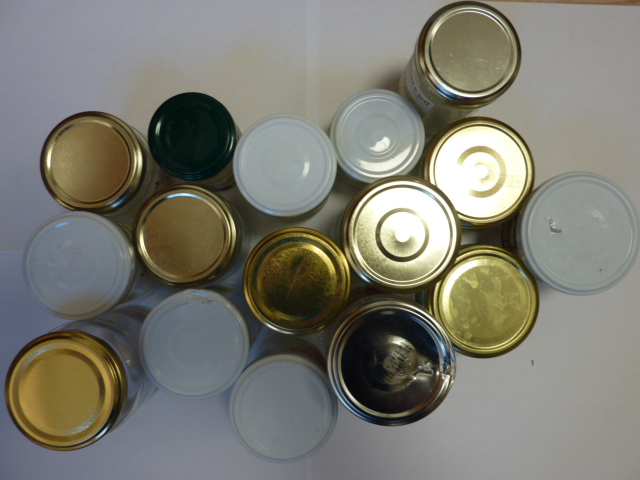damaged: (328, 301, 458, 428), (518, 174, 639, 294), (139, 290, 250, 398), (240, 230, 350, 334)
intact: (342, 176, 461, 291), (5, 336, 123, 450), (431, 246, 537, 358), (428, 117, 536, 223), (230, 358, 338, 461), (40, 111, 147, 212), (419, 3, 522, 102), (232, 117, 337, 214), (135, 186, 235, 285), (331, 90, 425, 178)
